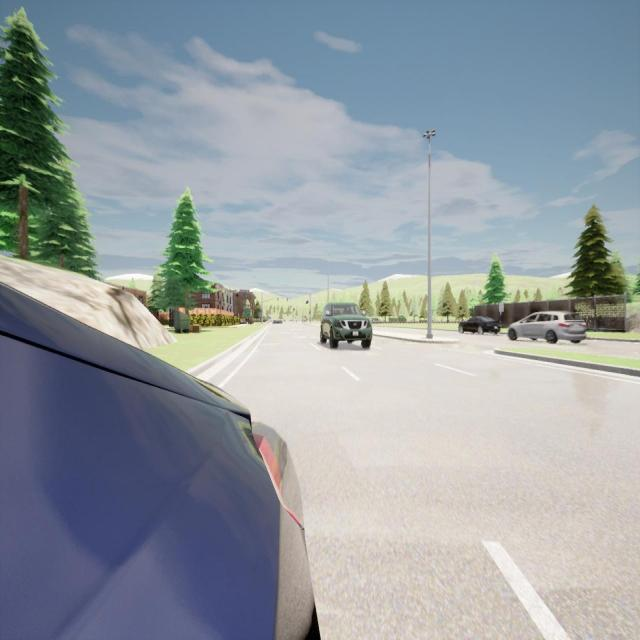Traffic_Signs: (498, 302, 505, 312)
Vehicle: (0, 280, 318, 640), (510, 311, 588, 343), (320, 302, 373, 348), (458, 315, 501, 334), (246, 316, 254, 325), (271, 320, 285, 324)
traffic_light: (306, 300, 308, 304), (286, 298, 288, 301), (309, 311, 311, 314), (278, 298, 278, 301)
